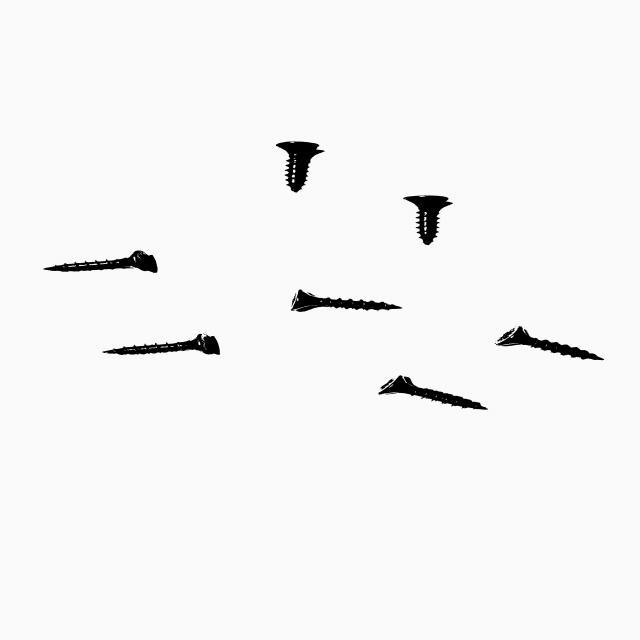Screw: (495, 326, 604, 360), (378, 376, 487, 410), (41, 251, 156, 273), (100, 334, 218, 355), (289, 290, 401, 312), (402, 195, 452, 244), (275, 141, 323, 192)
